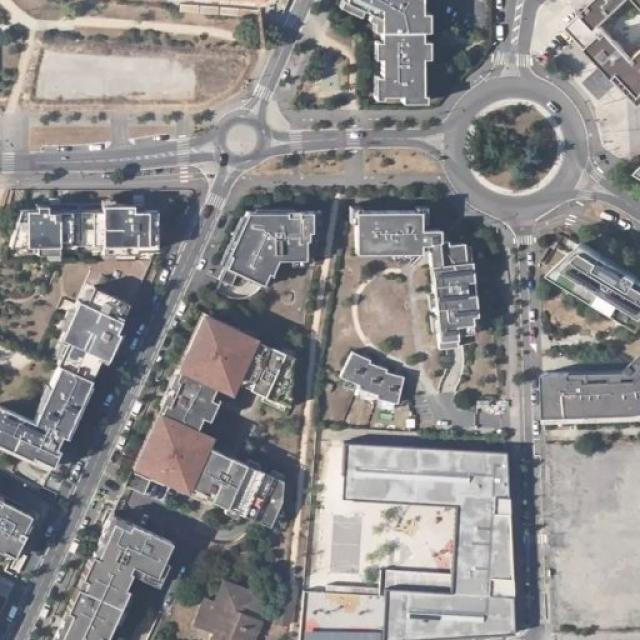immeuble: (302, 434, 522, 640), (342, 198, 492, 346), (137, 414, 295, 531), (522, 225, 640, 364), (58, 507, 166, 640), (15, 188, 192, 266), (0, 352, 119, 468), (176, 303, 290, 418), (345, 0, 448, 118), (520, 364, 640, 451), (222, 197, 316, 289), (561, 2, 640, 108), (49, 286, 145, 368), (183, 556, 267, 640), (318, 344, 412, 416), (0, 488, 38, 572)
